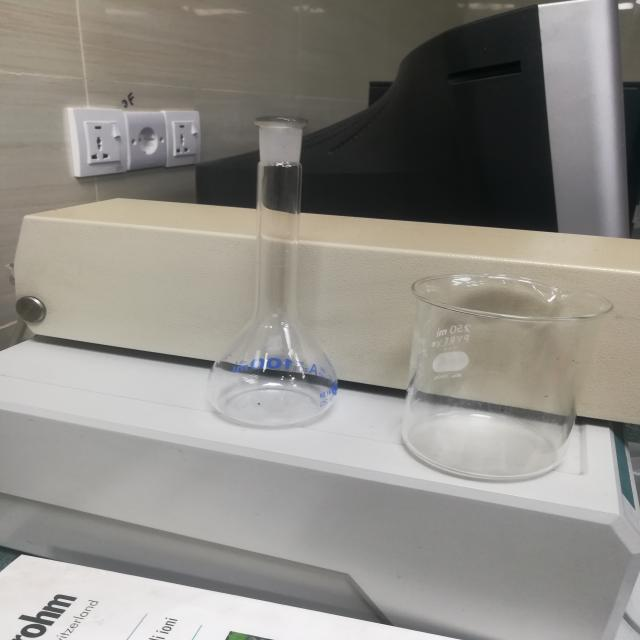Beaker: (390, 231, 622, 503)
Volumetric_Flask: (188, 95, 348, 448)
